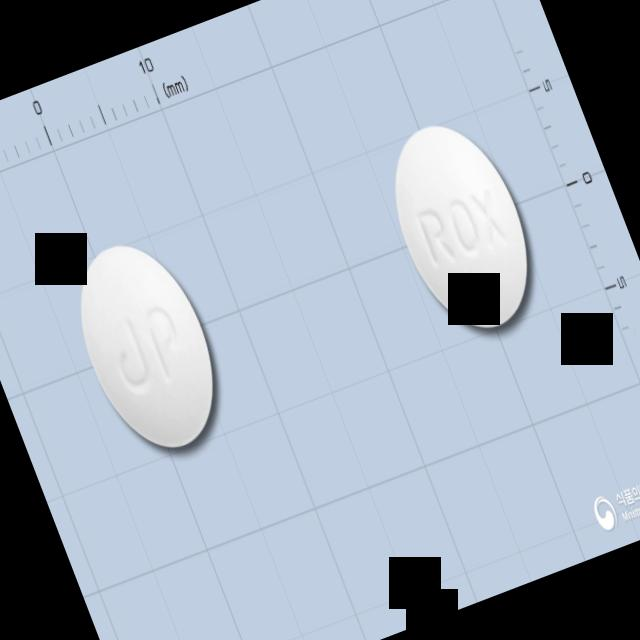Roxinmycin Tab: (368, 106, 555, 347), (55, 227, 241, 468)
